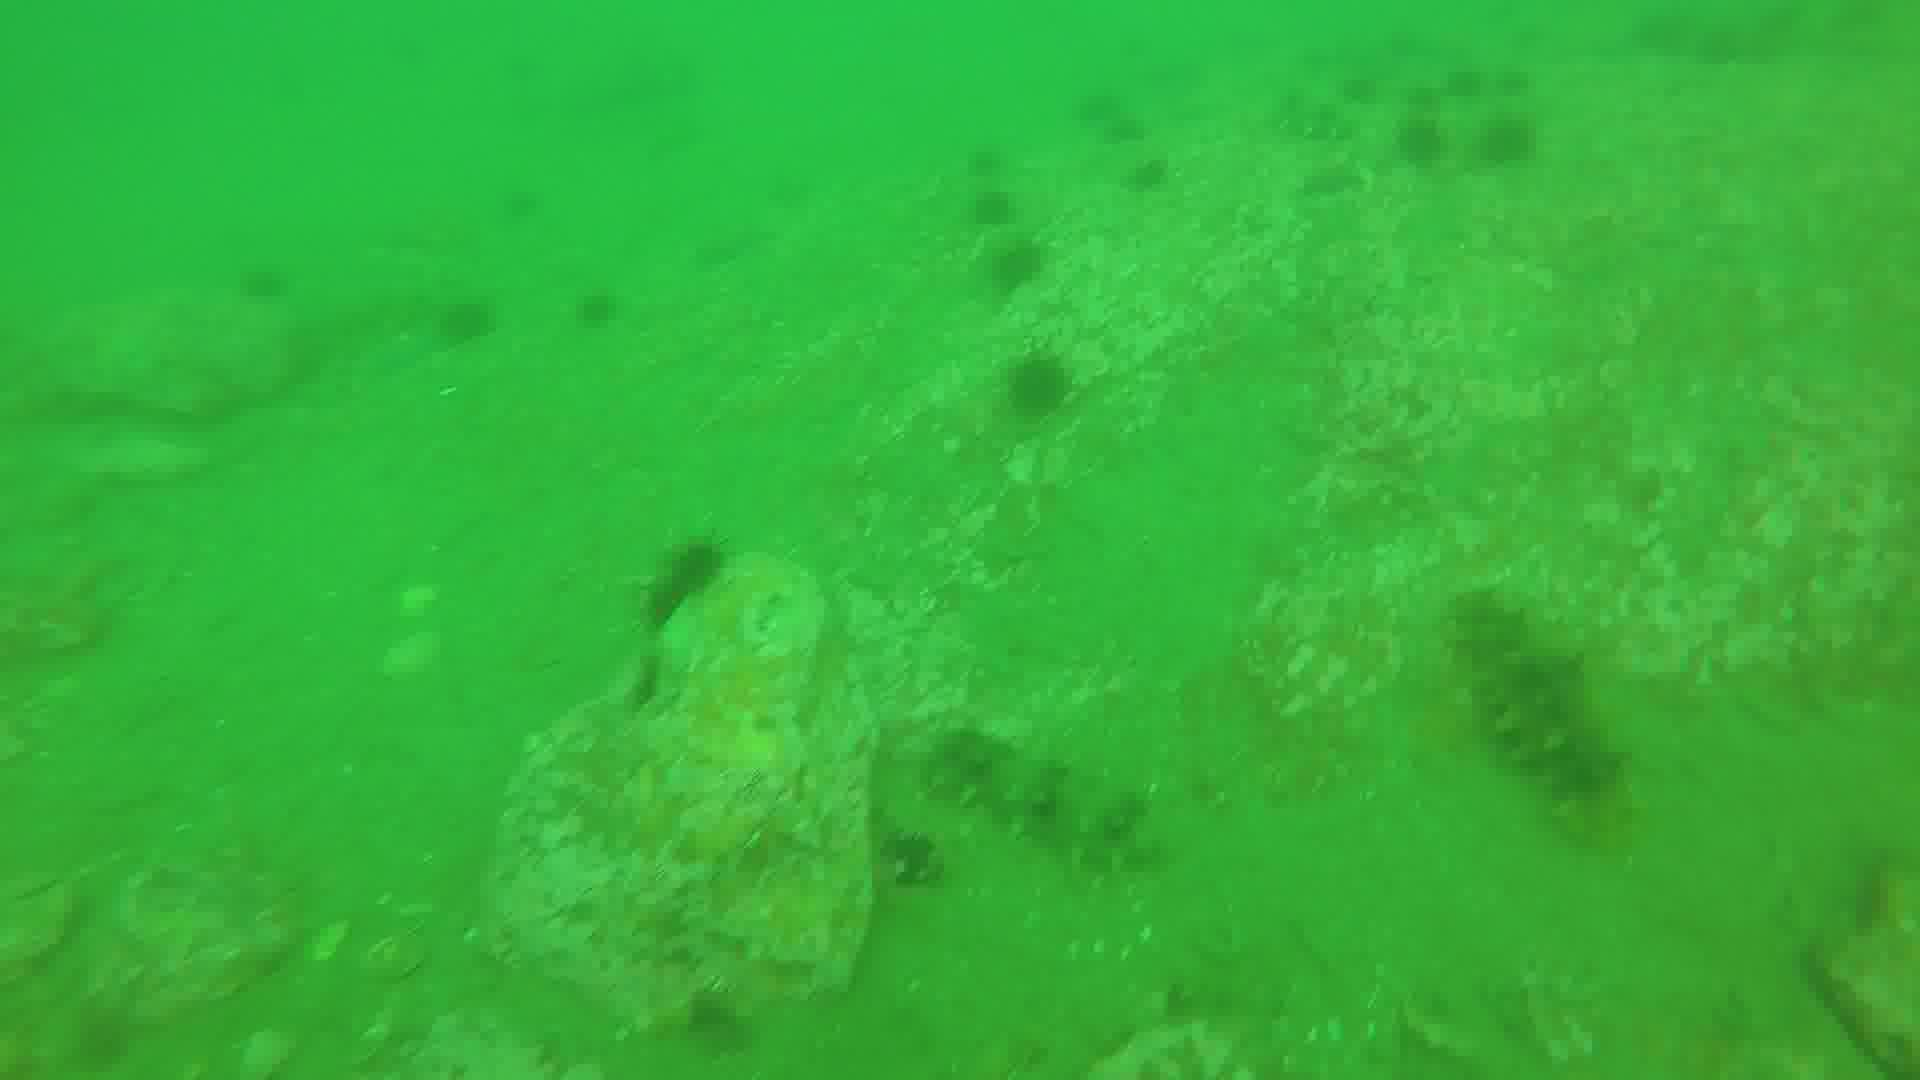echinus: (992, 355, 1080, 429), (657, 539, 729, 589), (630, 650, 684, 713), (989, 236, 1040, 295), (642, 580, 694, 638), (1399, 119, 1447, 162), (971, 193, 1022, 227), (1124, 153, 1162, 193), (1489, 67, 1526, 107), (977, 158, 1015, 194), (1487, 117, 1527, 150), (1443, 63, 1484, 92), (1106, 111, 1139, 146), (1072, 94, 1116, 119), (1408, 88, 1445, 113)
holothurian: (1456, 596, 1638, 843), (939, 735, 1160, 872), (1261, 100, 1369, 144)
scallop: (357, 939, 439, 989), (376, 636, 439, 690)
